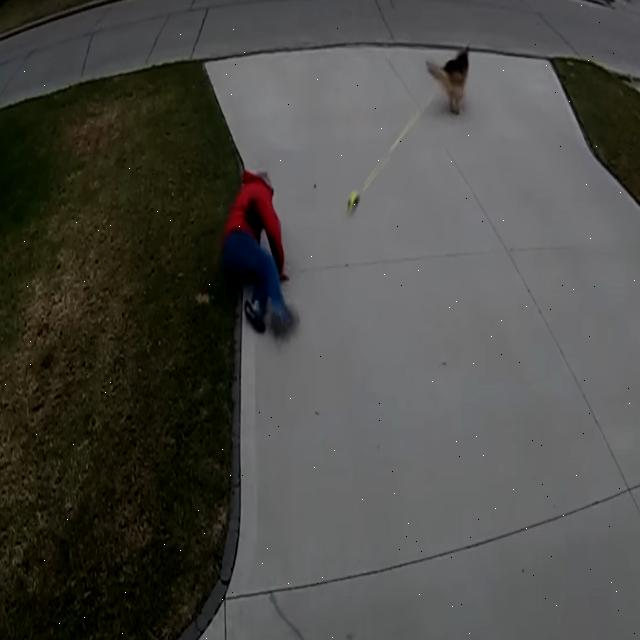fallen: (221, 171, 295, 333)
